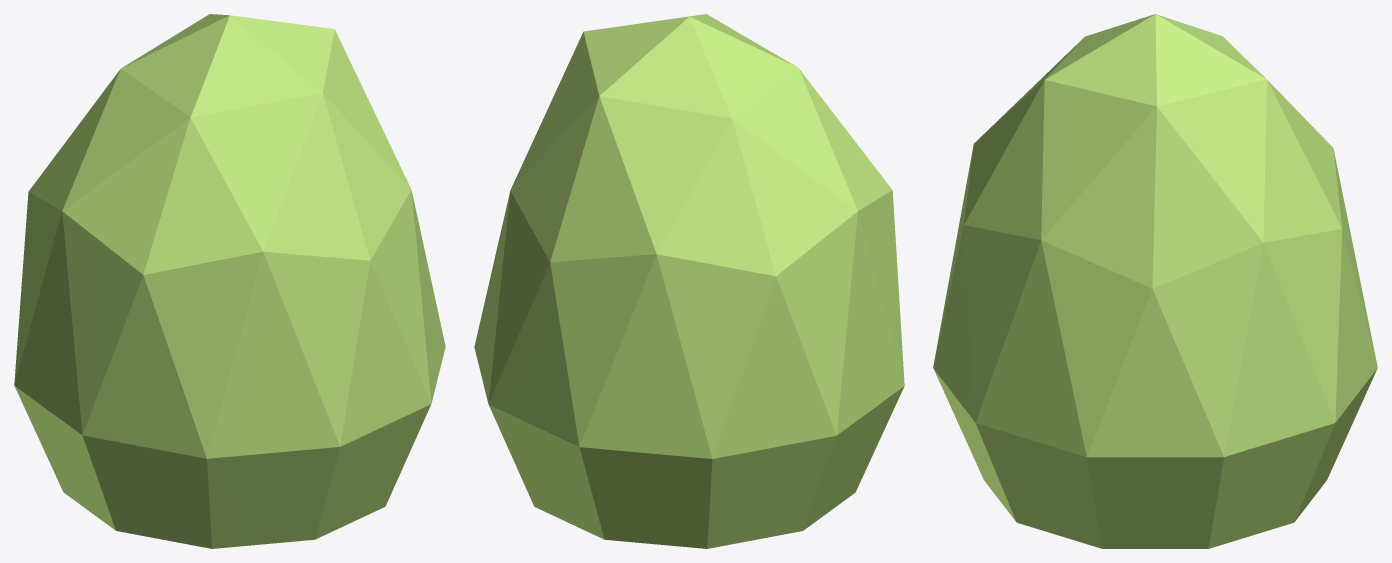
Rendered from Bush_h_m_04.fbx.
The picture shows the model from 3 angles, left to right: view 1: azimuth 30°, elevation 25°; view 2: azimuth 150°, elevation 25°; view 3: azimuth 270°, elevation 25°; orthographic projection.
Visible parts, largest first — view 1: Bush_h_m_04; view 2: Bush_h_m_04; view 3: Bush_h_m_04.
Part boxes in pixels (box(x1,y1,x2,y2)): Bush_h_m_04: box(14, 14, 445, 548); Bush_h_m_04: box(474, 14, 904, 548); Bush_h_m_04: box(933, 14, 1377, 548).
Bounding box in the file's own units: 1.17 × 1.42 × 1.23.
